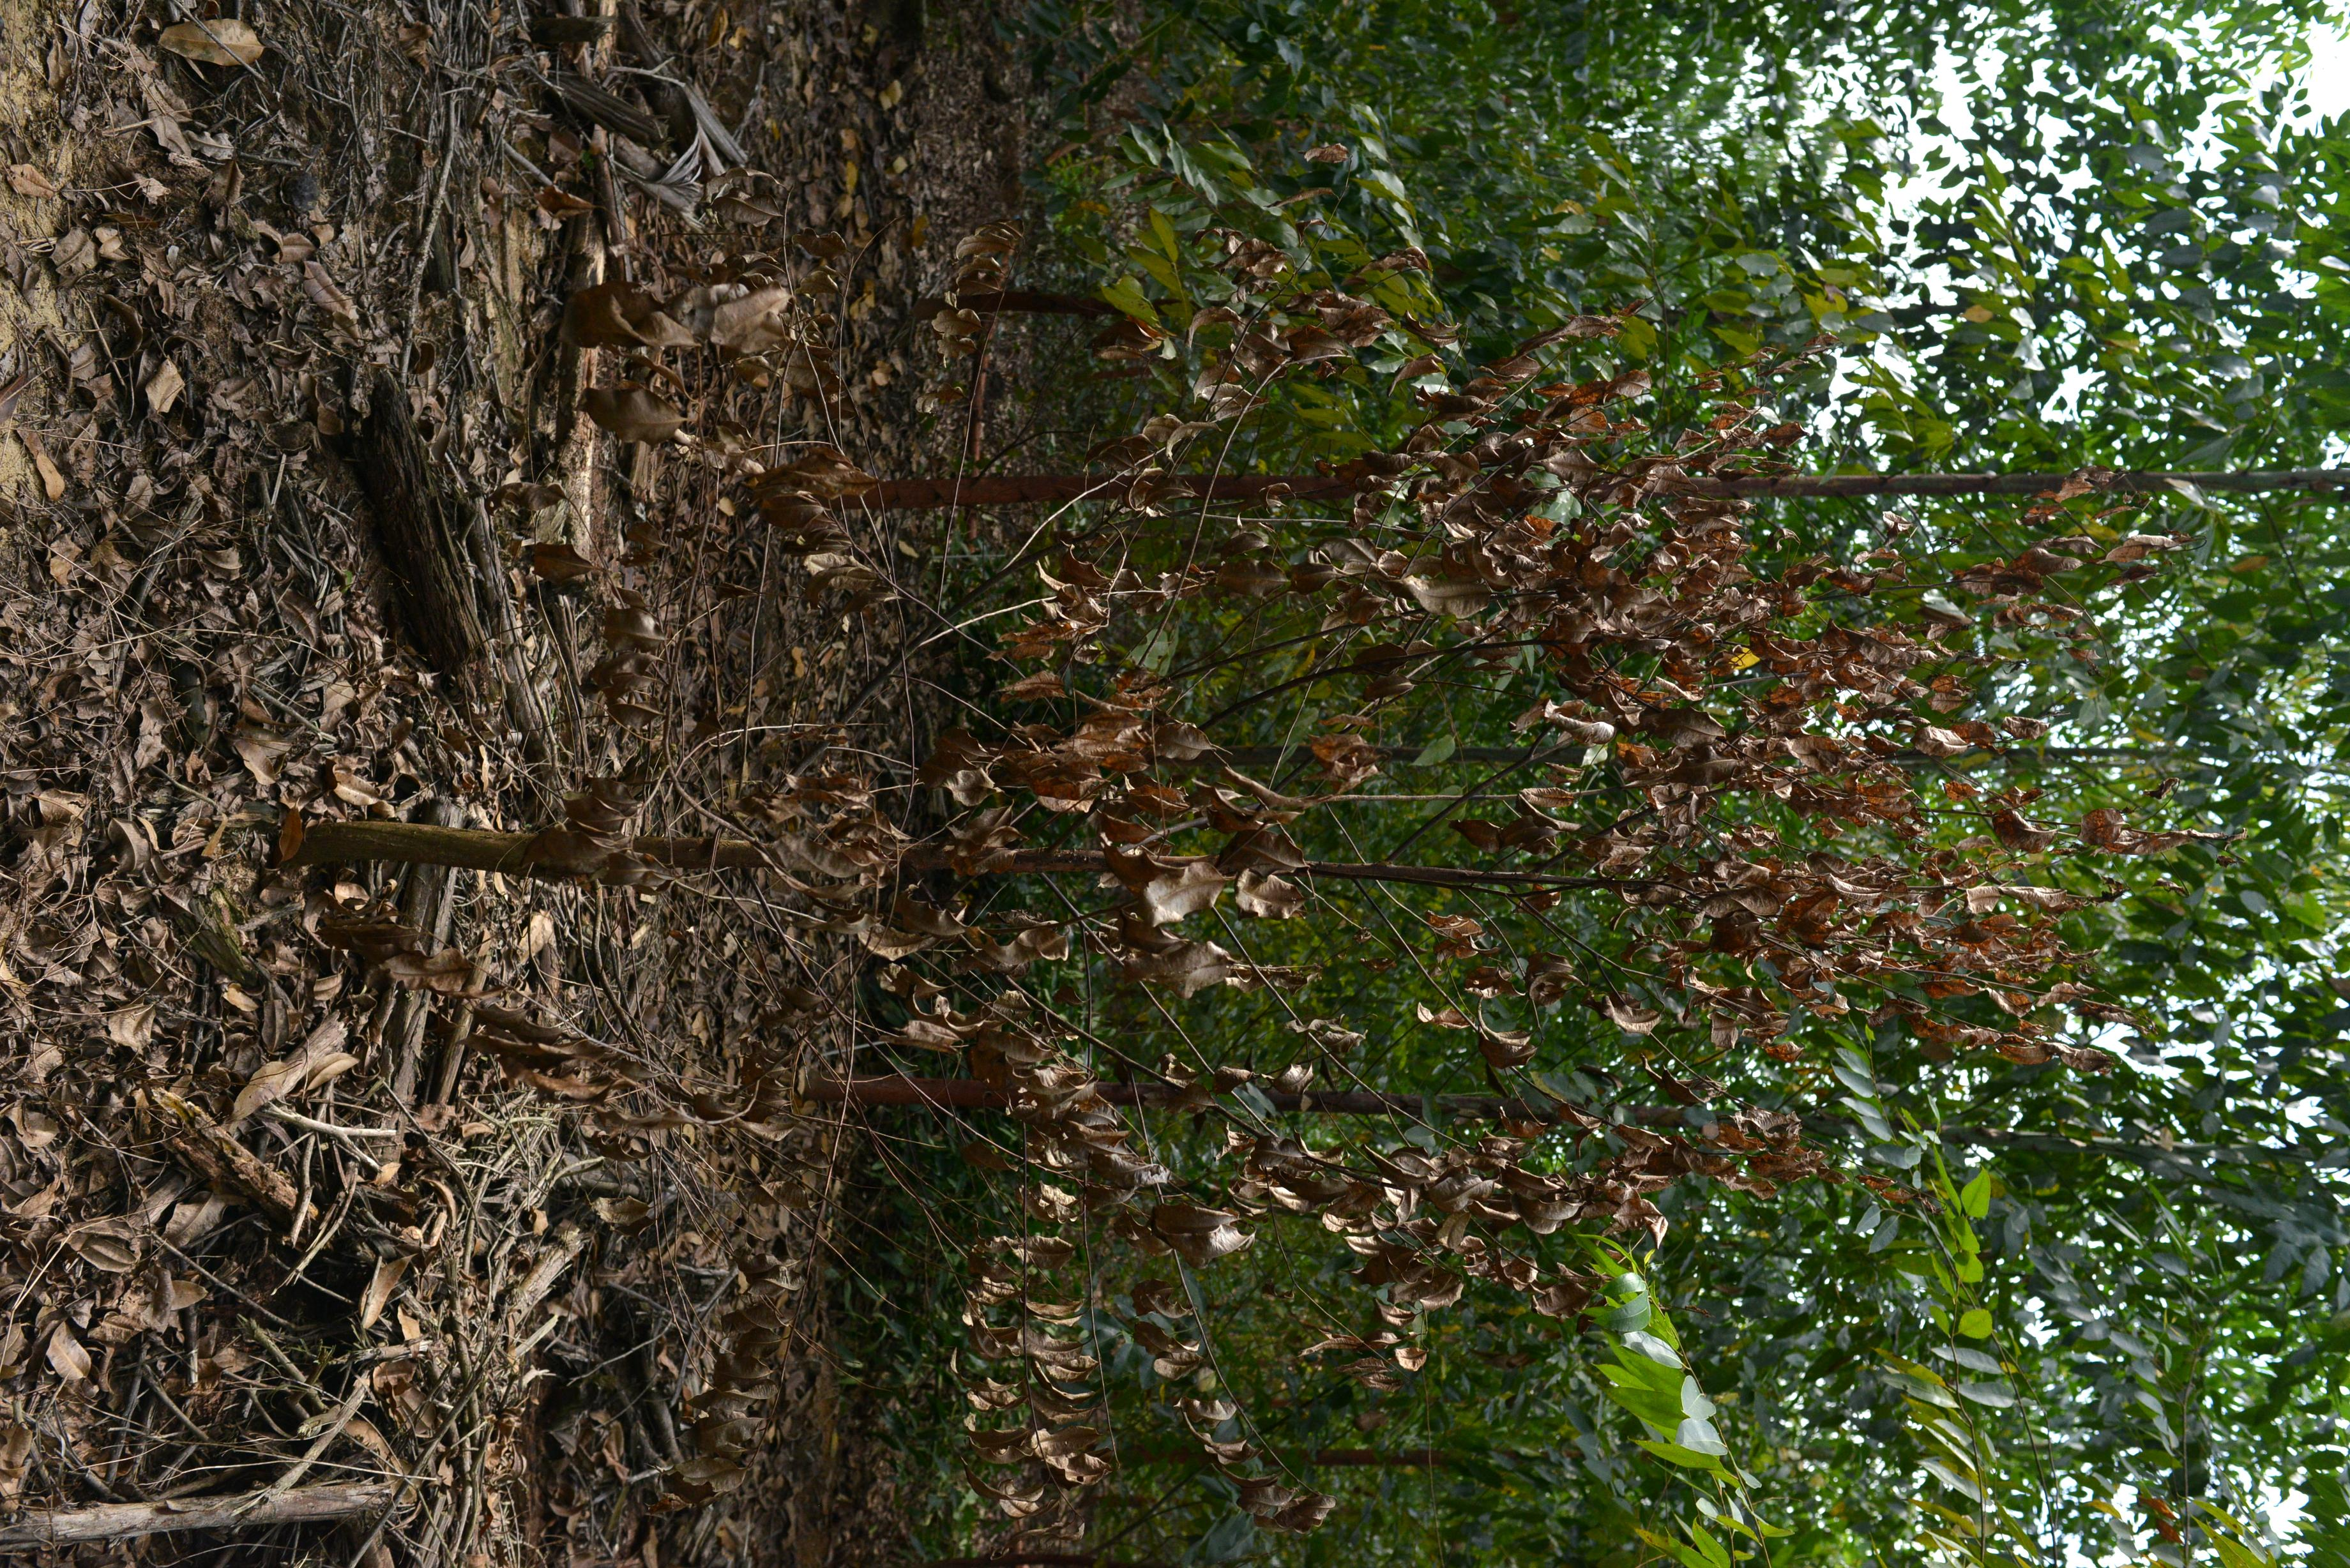Wither Tree Parts: (269, 212, 2191, 1466)
